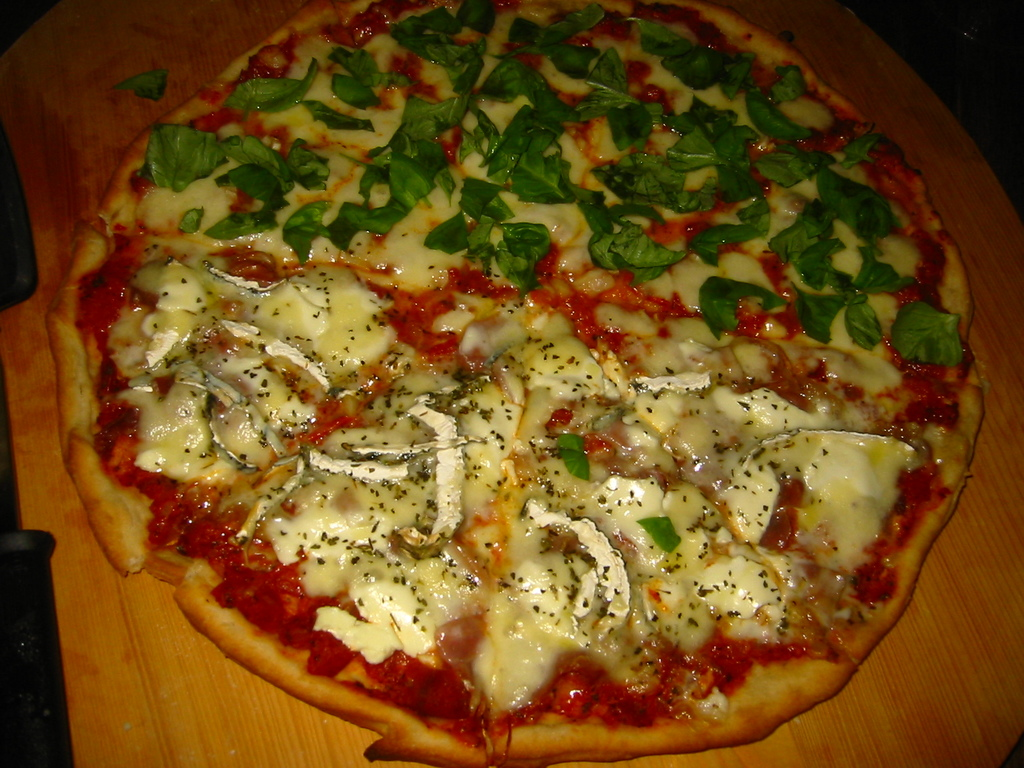Pizza: (491, 311, 844, 743), (598, 334, 970, 664), (200, 354, 478, 743), (61, 272, 430, 562), (490, 0, 843, 248), (187, 7, 472, 275), (639, 143, 970, 333)
